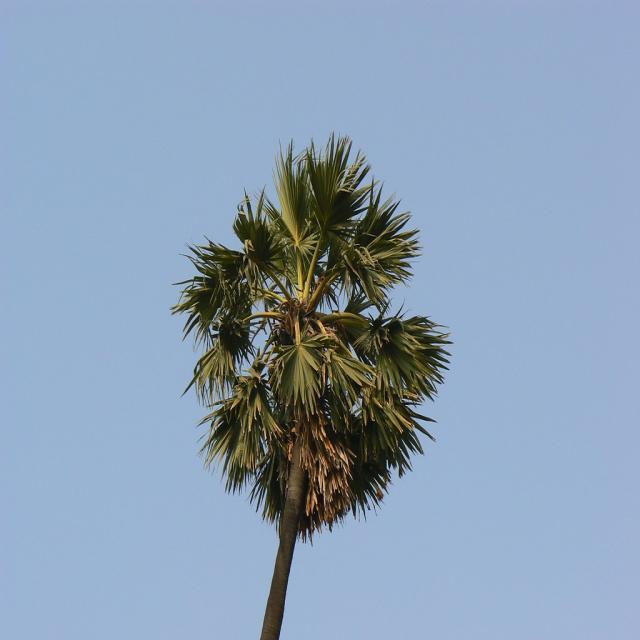Plam-Tree: (118, 120, 452, 624)
